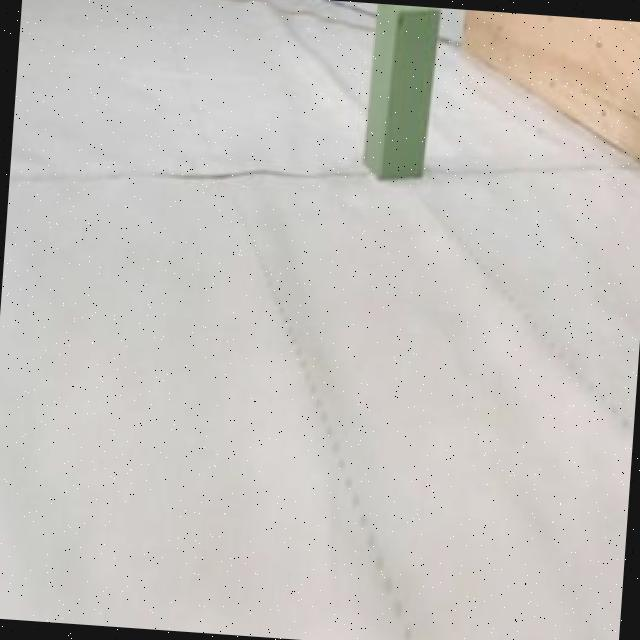greenbox: (362, 3, 446, 182)
